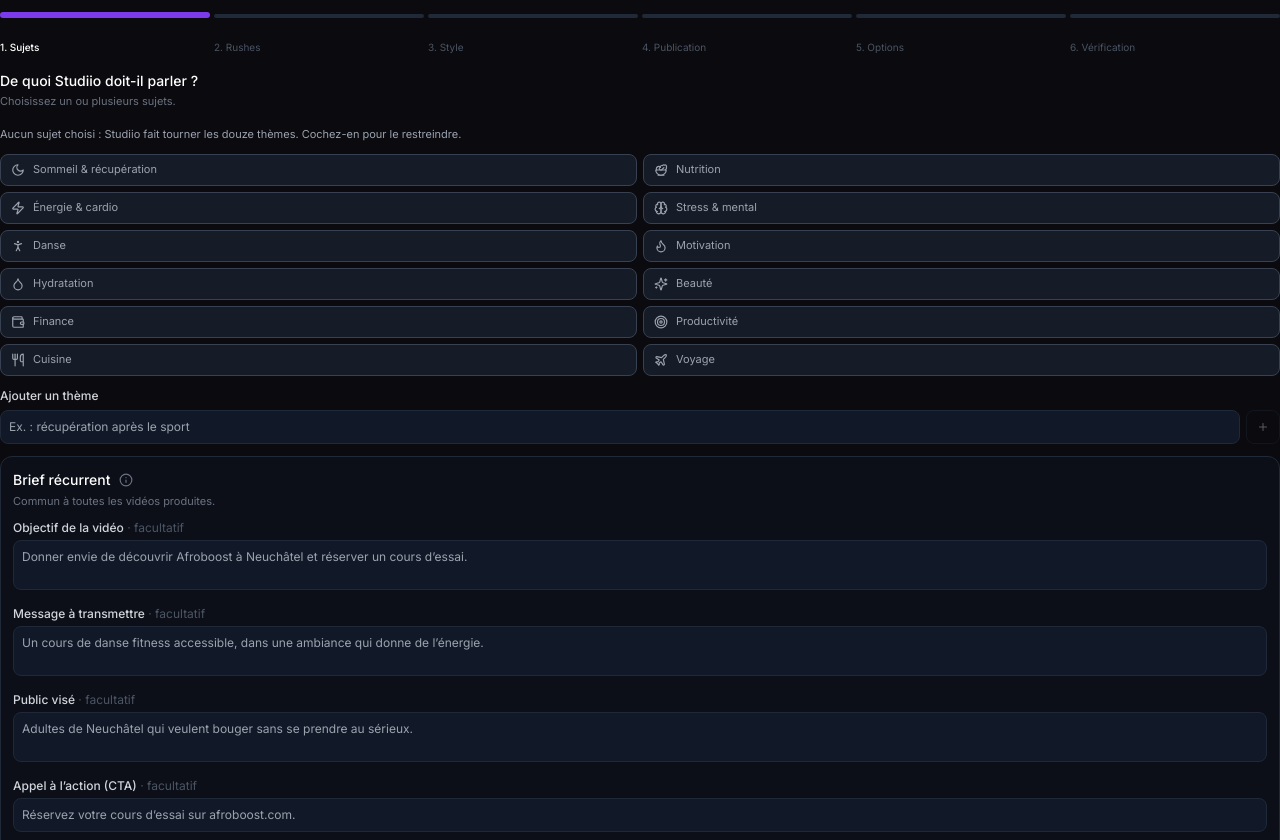
Scenario: Production et publication, nommées et séparées › deux blocs, deux titres, et l heure de production ne s appelle plus « départ »
This screenshot has width=1280, height=840.
Expected: the text "De quoi Studiio doit-il parler ?" is shown, [0,72,198,89]
Click the button named "Publication": (747, 16) [642,14,852,18]
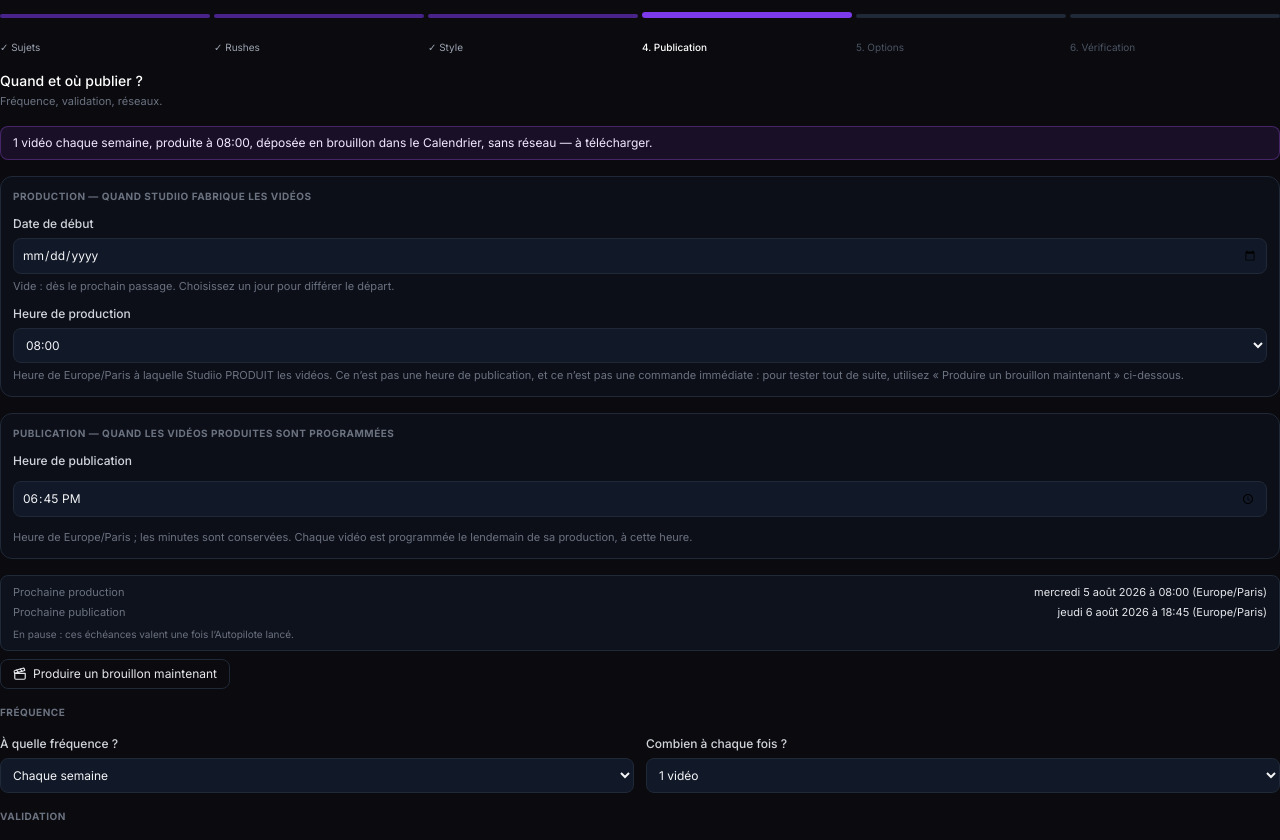
Expected: the element that starts with "Prochaine production" is shown, [0,575,1279,651]
Expected: the text "Production — quand Studiio fabrique" is shown, [13,190,312,202]
Expected: the text "Publication — quand les vidéos produites sont programmées" is shown, [13,426,394,438]
